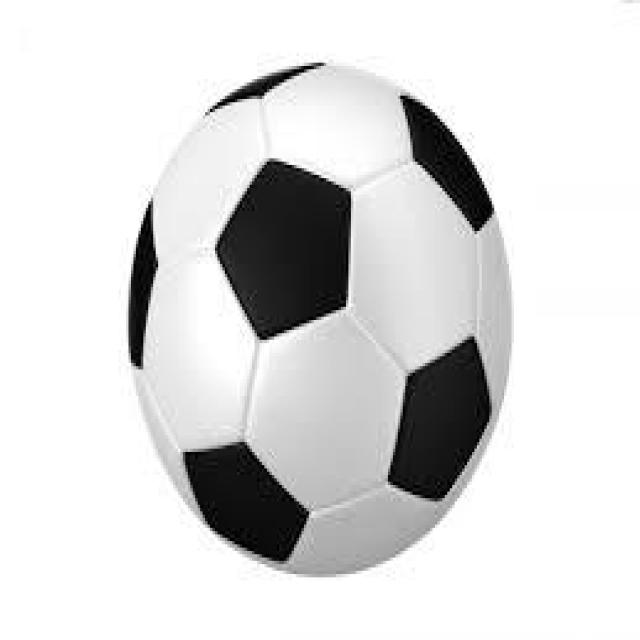Soccer Ball: (129, 56, 509, 581)
